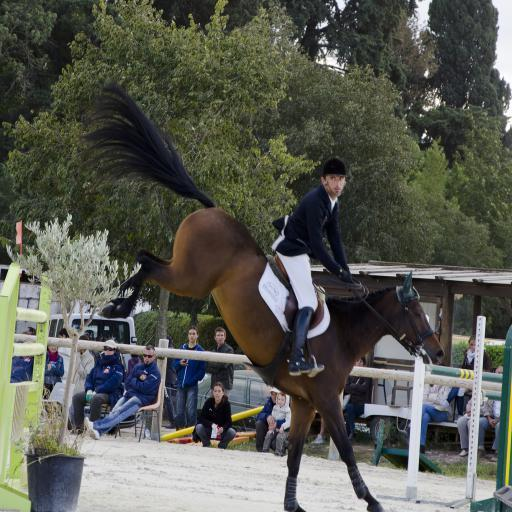horse: (72, 74, 448, 512)
